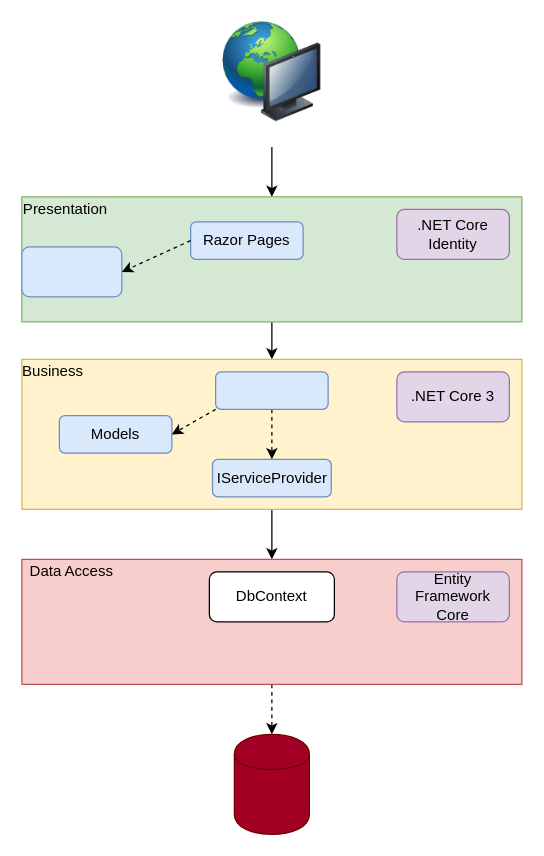
This 544x856 diagram has some shape labels left out. Here are the shapes that lost their labels. From the top down, the centre of each, then its label:
At point (271, 71): "Client Browser".
At point (71, 271): "Bootstrap".
At point (271, 390): "View Models".
At point (271, 783): "SQLServer".
